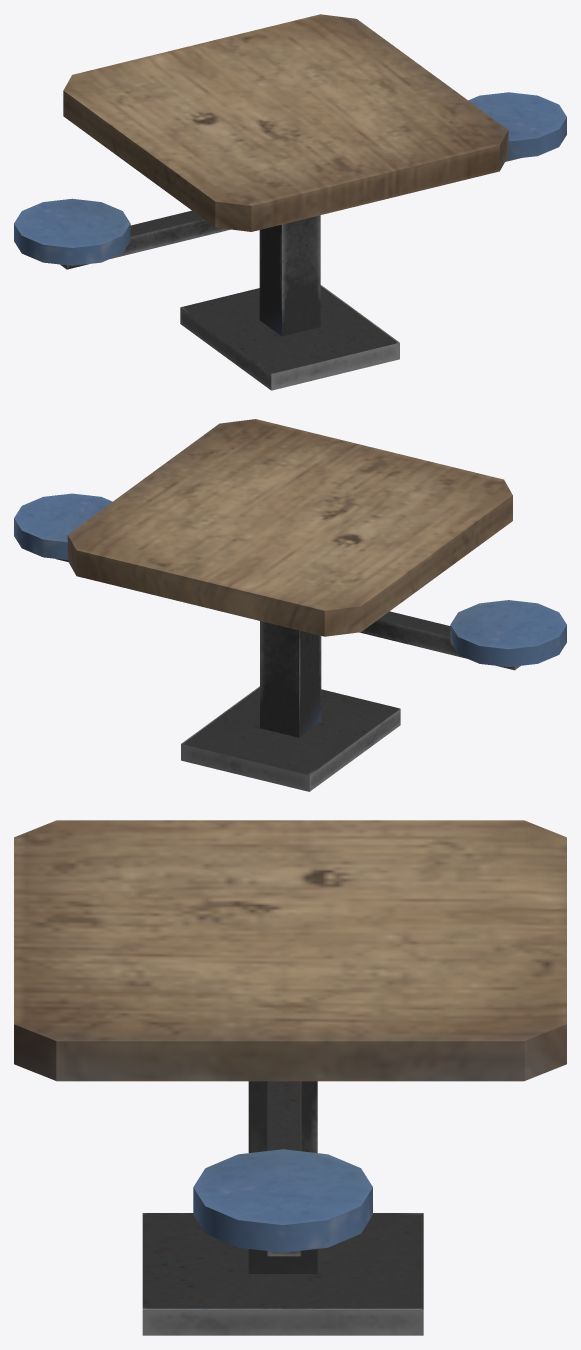
File: Table_3.fbx
3 views of the same model, one above another, from view 1: azimuth 30°, elevation 25°; view 2: azimuth 150°, elevation 25°; view 3: azimuth 270°, elevation 25° (orthographic). The views are drawn at different scales.
Visible parts, largest first — view 1: Table_3; view 2: Table_3; view 3: Table_3.
Boxes of the visible parts, box(x1,y1,x2,y2) form: Table_3: box(14, 14, 566, 390); Table_3: box(14, 419, 566, 791); Table_3: box(14, 820, 566, 1335).
Bounding box in the file's own units: 3.97 × 1.63 × 2.29.
